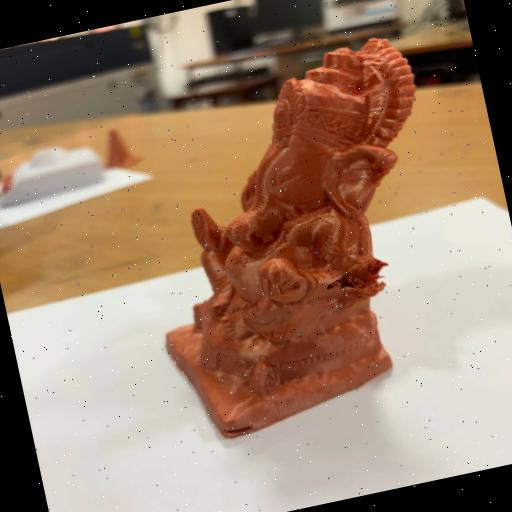cracks: (325, 252, 395, 313), (218, 406, 264, 450)
